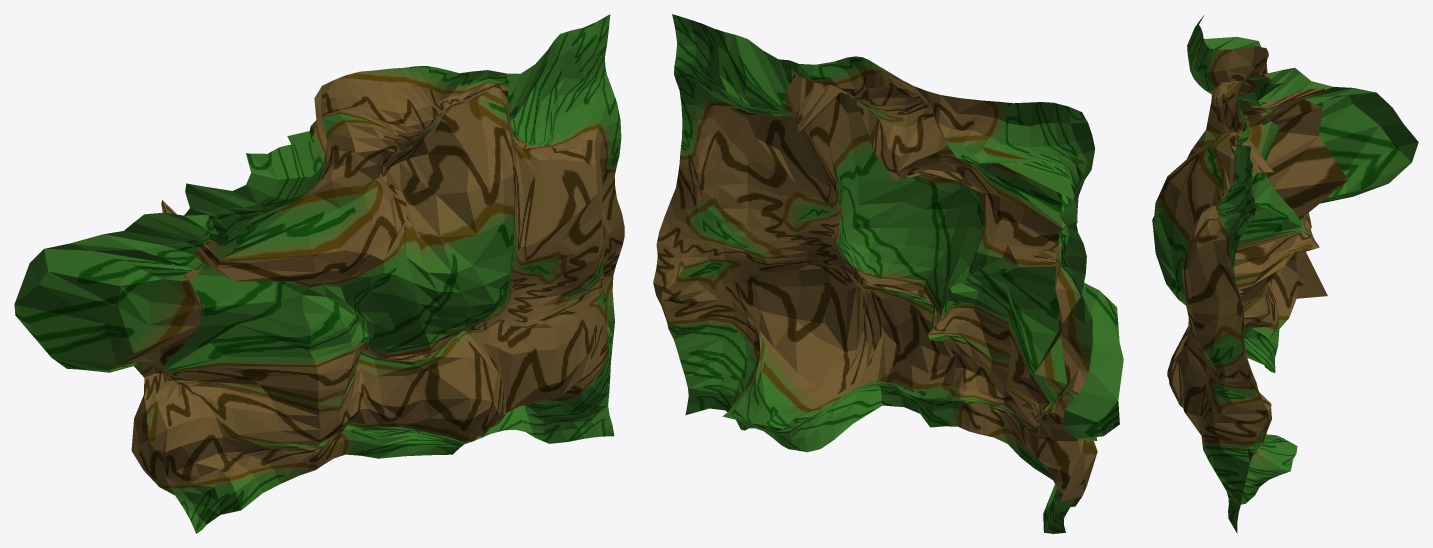
The model's file is terrain.obj.
3 views of the same model, side by side, from view 1: azimuth 30°, elevation 25°; view 2: azimuth 150°, elevation 25°; view 3: azimuth 270°, elevation 25° (orthographic). The views are drawn at different scales.
Visible parts, largest first — view 1: Plane; view 2: Plane; view 3: Plane.
Boxes of the visible parts, left/top/right/bottom form: Plane: left=14, top=14, right=624, bottom=533; Plane: left=653, top=14, right=1123, bottom=533; Plane: left=1152, top=15, right=1418, bottom=533.
Size of the model in its own units: 1622 by 1223 by 772.
